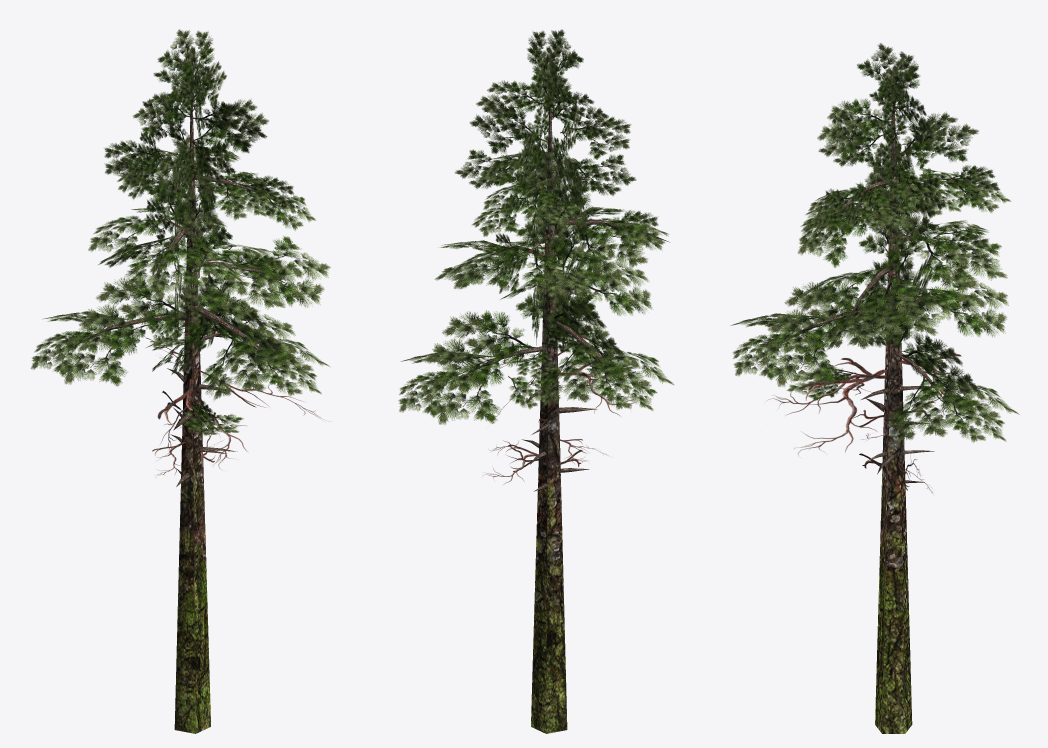
The model's file is tree955.glb.
The picture shows the model from 3 angles, left to right: view 1: azimuth 30°, elevation 25°; view 2: azimuth 150°, elevation 25°; view 3: azimuth 270°, elevation 25°; orthographic projection.
Visible parts, largest first — view 1: tree955; view 2: tree955; view 3: tree955.
Boxes of the visible parts, x1,y1,x2,y2 form: tree955: [30, 29, 330, 733]; tree955: [398, 29, 673, 733]; tree955: [730, 43, 1019, 733].
Size of the model in its own units: 13 by 30.98 by 12.51.
Materials: 2 (2 with a texture image).
